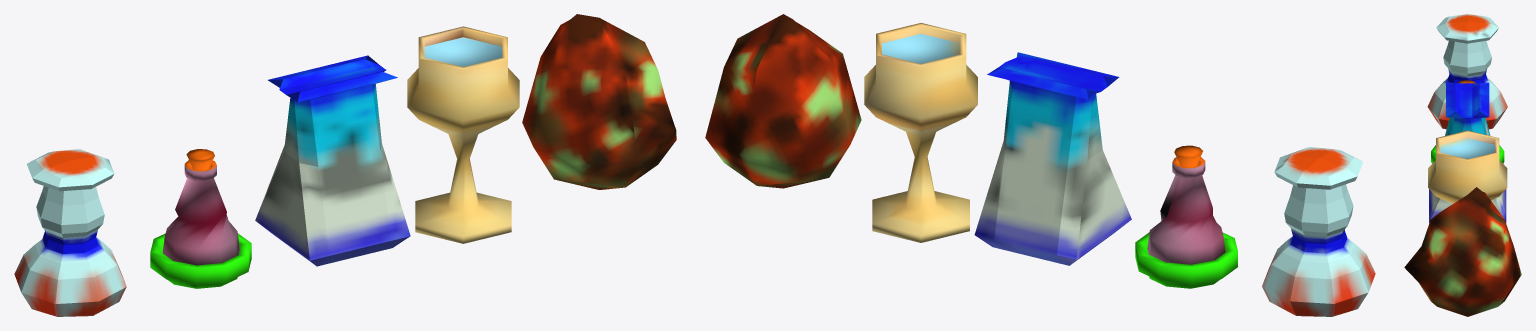
File: Ingredients.fbx
3 renders of one model, left to right at view 1: azimuth 30°, elevation 25°; view 2: azimuth 150°, elevation 25°; view 3: azimuth 270°, elevation 25°, orthographic. The views are drawn at different scales.
Visible parts, largest first — view 1: Cube, huevo, Plane, Cube.005, Cylinder; view 2: Cube, huevo, Plane, Cube.005, Cylinder; view 3: huevo, Plane, Cube.005, Cube, Cylinder.
Boxes of the visible parts, bbox=[...] form: Cube: bbox=[255, 55, 410, 266]; huevo: bbox=[522, 14, 676, 189]; Plane: bbox=[407, 26, 519, 243]; Cube.005: bbox=[14, 149, 126, 316]; Cylinder: bbox=[150, 149, 251, 288]; Cube: bbox=[974, 52, 1131, 265]; huevo: bbox=[705, 14, 861, 188]; Plane: bbox=[864, 23, 977, 242]; Cube.005: bbox=[1262, 147, 1375, 316]; Cylinder: bbox=[1135, 145, 1237, 288]; huevo: bbox=[1404, 187, 1521, 316]; Plane: bbox=[1428, 130, 1507, 204]; Cube.005: bbox=[1427, 14, 1507, 129]; Cube: bbox=[1429, 82, 1506, 222]; Cylinder: bbox=[1431, 80, 1504, 163].
Size of the model in its own units: 207 by 55.29 by 46.31.
Materials: 1 (1 with a texture image).
